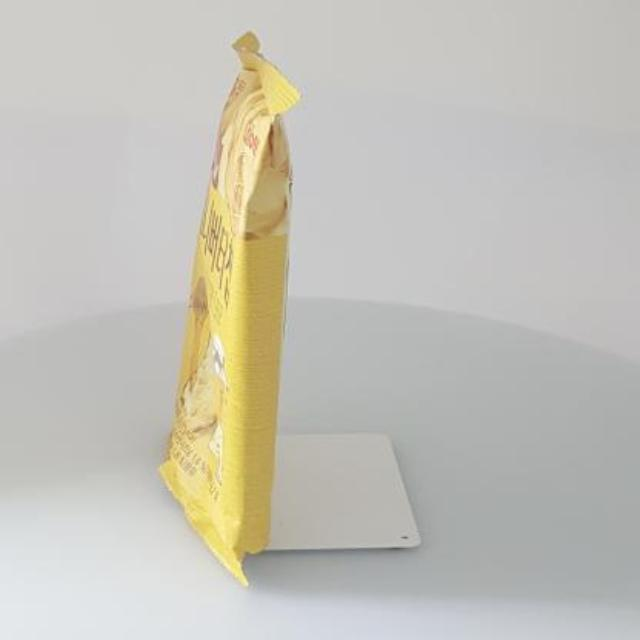snack_bag: (129, 19, 335, 605)
